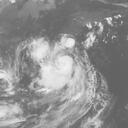cyclone: (26, 33, 93, 96)
